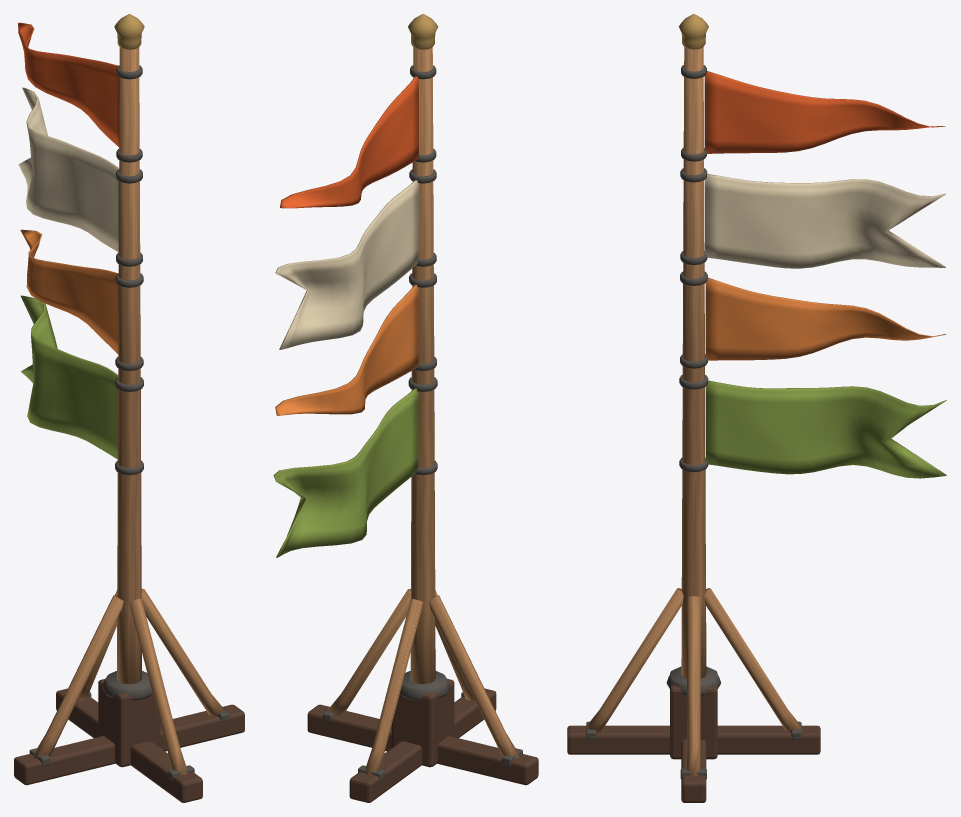
The picture shows the model from 3 angles, left to right: view 1: azimuth 30°, elevation 25°; view 2: azimuth 150°, elevation 25°; view 3: azimuth 270°, elevation 25°; orthographic projection.
Parts seen in each view (by area): view 1: C10_craft_wood, C10_craft_dark, flag_04, flag_02, flag_03, flag_01, C10_craft_iron, C10_craft_brass; view 2: C10_craft_wood, C10_craft_dark, flag_04, flag_02, flag_03, flag_01, C10_craft_iron, C10_craft_brass; view 3: C10_craft_wood, flag_02, flag_04, flag_01, flag_03, C10_craft_dark, C10_craft_iron, C10_craft_brass.
Part boxes in pixels (left/top/right/bottom): C10_craft_wood: left=33, top=47, right=225, bottom=775; C10_craft_dark: left=14, top=679, right=244, bottom=802; flag_04: left=20, top=295, right=118, bottom=459; flag_02: left=18, top=87, right=119, bottom=251; flag_03: left=20, top=229, right=118, bottom=354; flag_01: left=18, top=22, right=119, bottom=147; C10_craft_iron: left=29, top=65, right=229, bottom=781; C10_craft_brass: left=114, top=14, right=144, bottom=49; C10_craft_wood: left=327, top=47, right=519, bottom=775; C10_craft_dark: left=307, top=678, right=538, bottom=802; flag_04: left=273, top=388, right=418, bottom=557; flag_02: left=275, top=180, right=418, bottom=349; flag_03: left=275, top=284, right=418, bottom=415; flag_01: left=280, top=76, right=418, bottom=208; C10_craft_iron: left=323, top=65, right=522, bottom=781; C10_craft_brass: left=408, top=14, right=438, bottom=49; C10_craft_wood: left=583, top=47, right=803, bottom=776; flag_02: left=705, top=174, right=945, bottom=268; flag_04: left=706, top=380, right=946, bottom=478; flag_01: left=704, top=71, right=945, bottom=153; flag_03: left=705, top=277, right=946, bottom=360; C10_craft_dark: left=567, top=670, right=820, bottom=802; C10_craft_iron: left=586, top=65, right=801, bottom=779; C10_craft_brass: left=678, top=14, right=708, bottom=49.
Size of the model in its own units: 1 by 3.2 by 1.5.
Materials: 5 (2 with a texture image).
